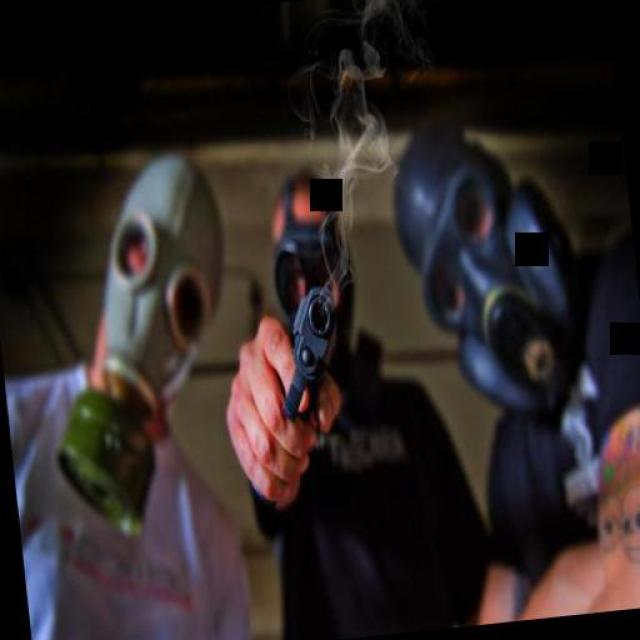gun: (258, 273, 352, 435)
